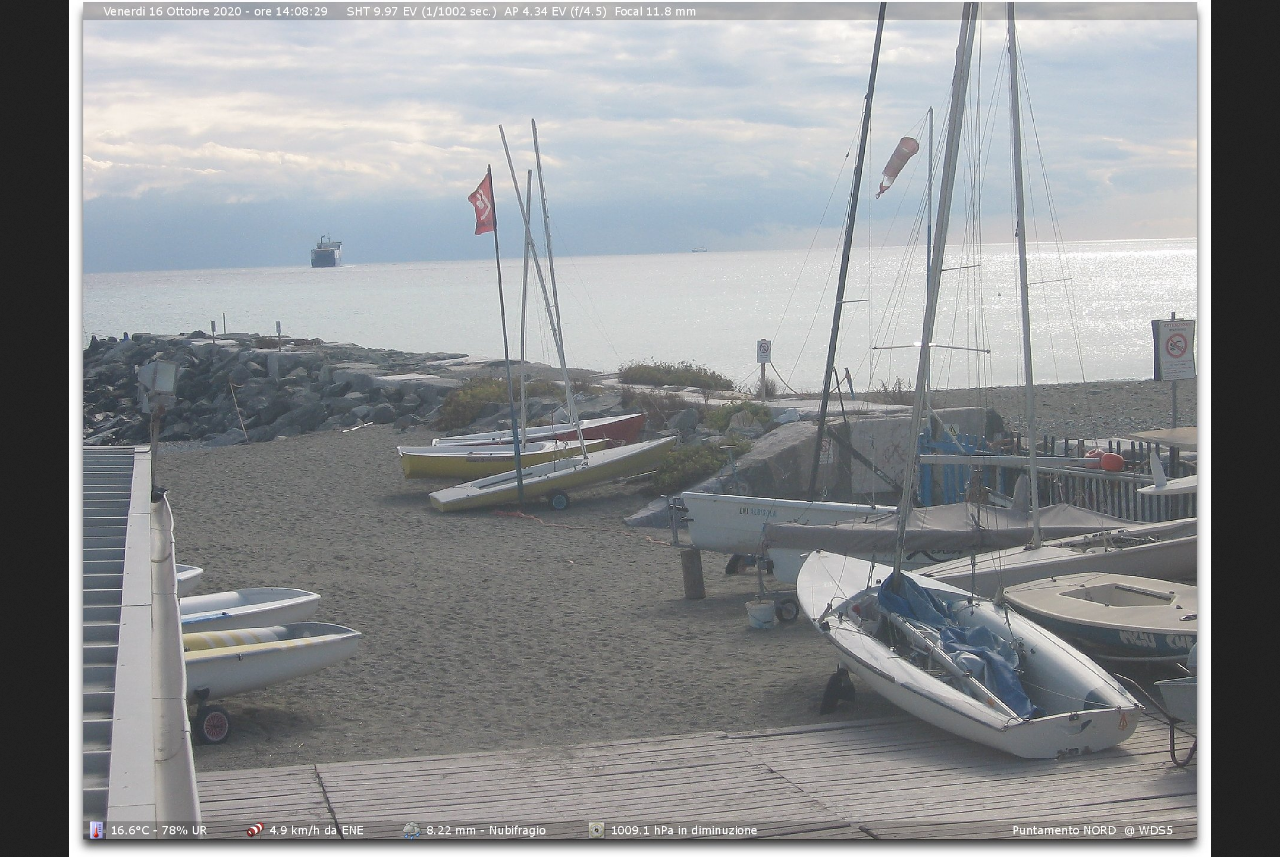maybe: (470, 171, 496, 236)
